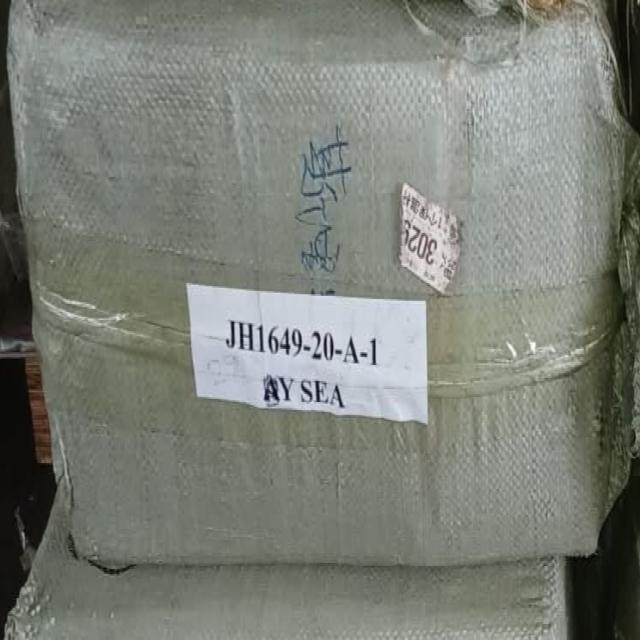export_mark_label: (174, 249, 458, 516)
